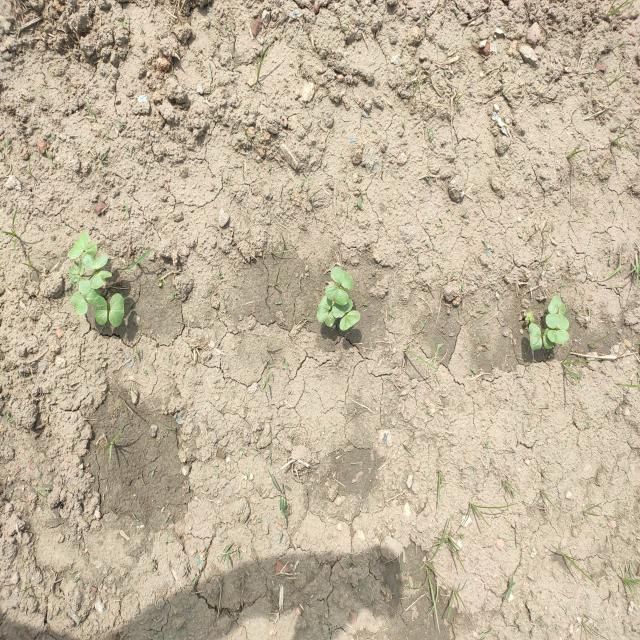seedling_s2: (79, 279, 100, 307), (68, 232, 89, 259), (108, 293, 124, 328), (330, 267, 353, 289), (326, 284, 349, 305), (339, 310, 360, 331), (82, 254, 108, 270), (71, 292, 88, 316), (94, 296, 108, 325), (317, 295, 332, 322), (332, 299, 353, 318), (529, 323, 543, 351), (545, 314, 569, 330), (90, 271, 111, 288), (69, 262, 84, 284), (547, 330, 569, 344), (82, 243, 98, 262), (548, 296, 562, 314), (325, 310, 338, 327), (543, 327, 553, 349), (558, 303, 567, 316)
